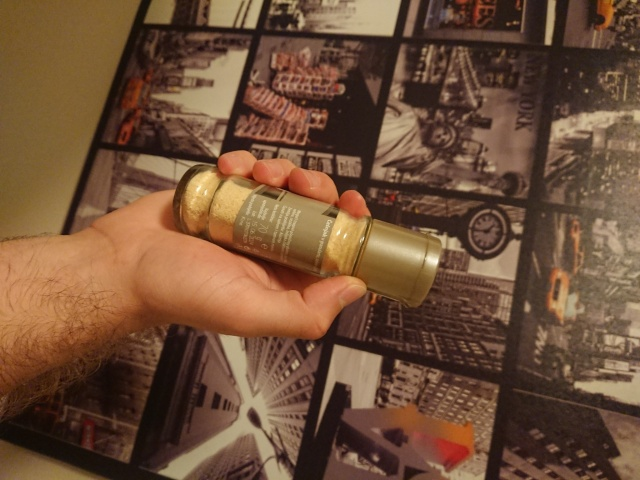Kotanyi Garlic Granules 70g: (170, 162, 445, 311)
